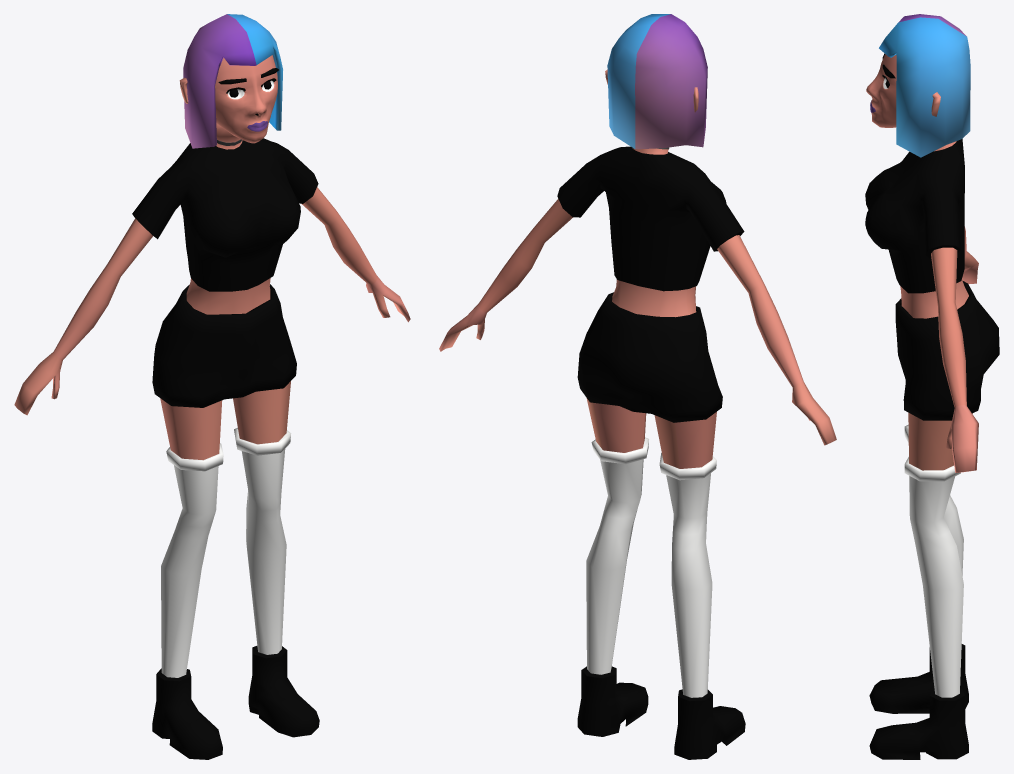
Rendered from Girl_1.fbx.
3 renders of one model, left to right at view 1: azimuth 30°, elevation 25°; view 2: azimuth 150°, elevation 25°; view 3: azimuth 270°, elevation 25°, orthographic.
Visible parts, largest first — view 1: Girl_1; view 2: Girl_1; view 3: Girl_1.
Boxes of the visible parts, x1,y1,x2,y2 form: Girl_1: (14,14,410,759); Girl_1: (439,14,836,759); Girl_1: (865,14,999,759).
Bounding box in the file's own units: 88.52 × 154 × 26.32.
1 material, 1 textured.
